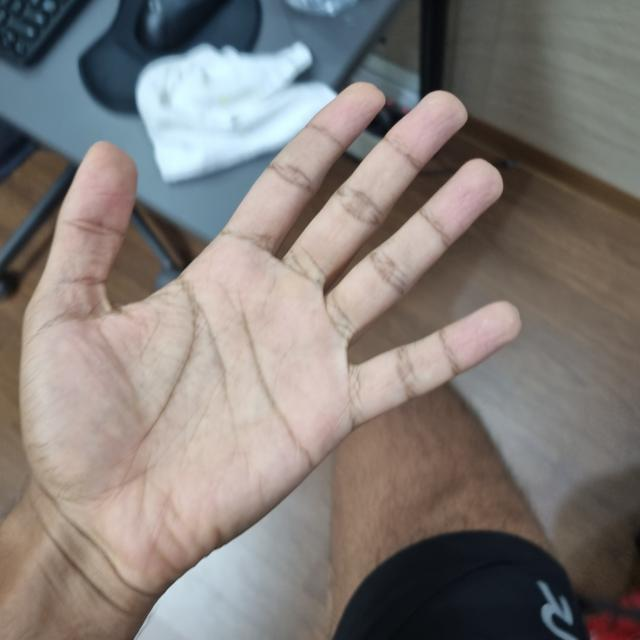Paper: (14, 81, 517, 602)
